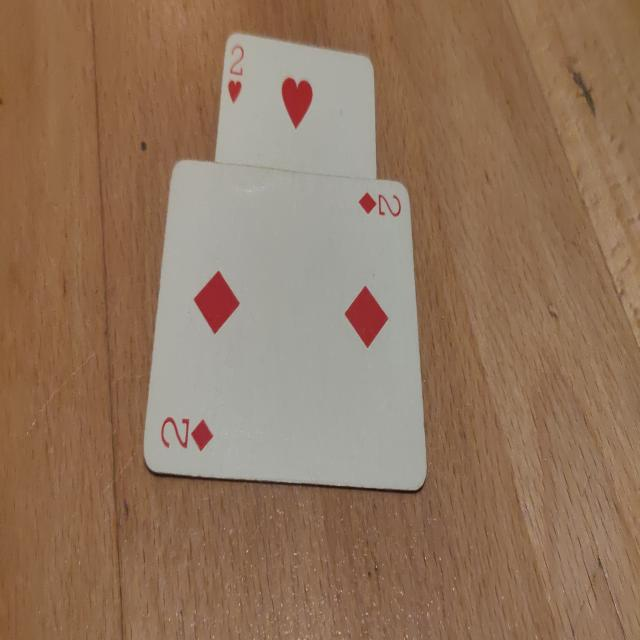Diamond: (194, 270, 240, 334), (344, 286, 388, 348), (191, 419, 213, 452), (358, 192, 376, 214)
Heart: (282, 78, 312, 129), (229, 80, 242, 105)
